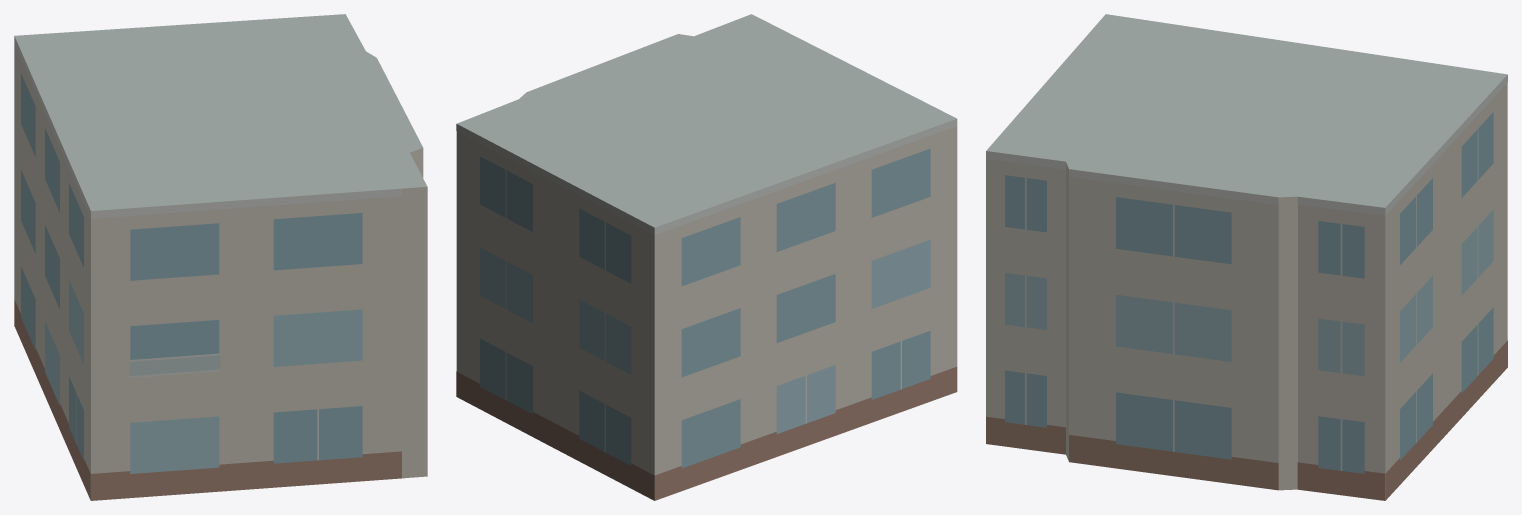
The model's file is survey-upis-32556199.glb.
3 views of the same model, side by side, from view 1: azimuth 30°, elevation 25°; view 2: azimuth 150°, elevation 25°; view 3: azimuth 270°, elevation 25° (orthographic). The views are drawn at different scales.
Visible parts, largest first — view 1: survey-upis-32556199.tmp; view 2: survey-upis-32556199.tmp; view 3: survey-upis-32556199.tmp.
Boxes of the visible parts, x1,y1,x2,y2 form: survey-upis-32556199.tmp: (14, 14, 427, 500); survey-upis-32556199.tmp: (456, 14, 957, 500); survey-upis-32556199.tmp: (986, 14, 1507, 500).
Size of the model in its own units: 13 by 9.15 by 14.77.
